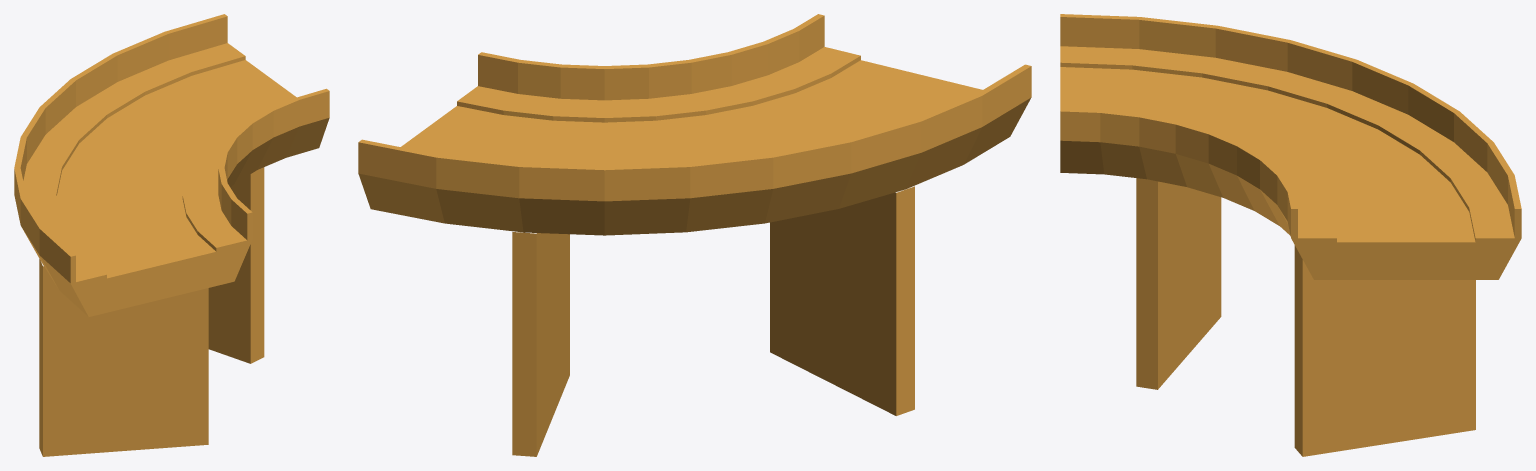
The model's file is tiles-bridge-road-curve.glb.
3 renders of one model, left to right at view 1: azimuth 30°, elevation 25°; view 2: azimuth 150°, elevation 25°; view 3: azimuth 270°, elevation 25°, orthographic. The views are drawn at different scales.
Parts seen in each view (by area): view 1: bridge-road-curve; view 2: bridge-road-curve; view 3: bridge-road-curve.
Part boxes in pixels (x1,y1,x2,y2): bridge-road-curve: [14, 14, 329, 456]; bridge-road-curve: [358, 14, 1031, 456]; bridge-road-curve: [1060, 14, 1521, 456].
Size of the model in its own units: 20 by 13.4 by 20.
